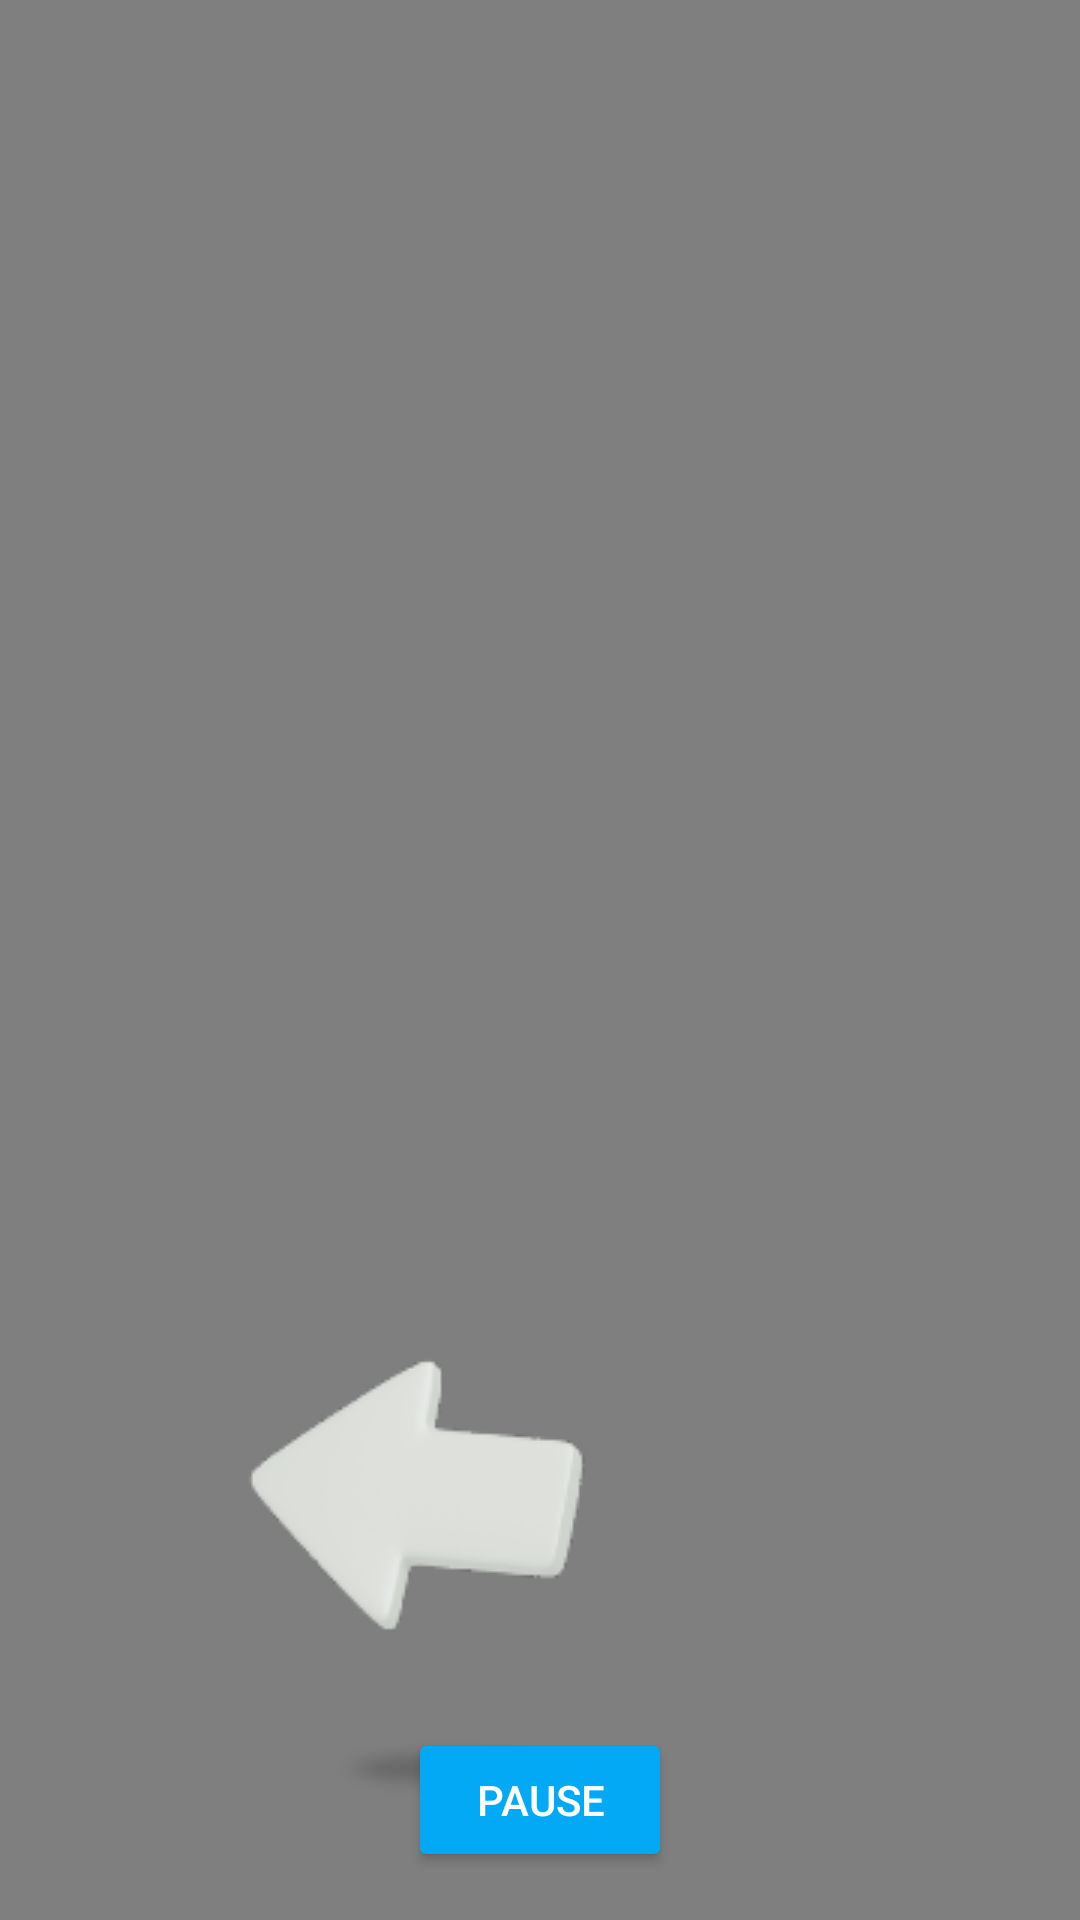

Icons on this 1080w x 1920h Android screen, each with the point to tap as (x,y):
Back Button: (417,1495)
